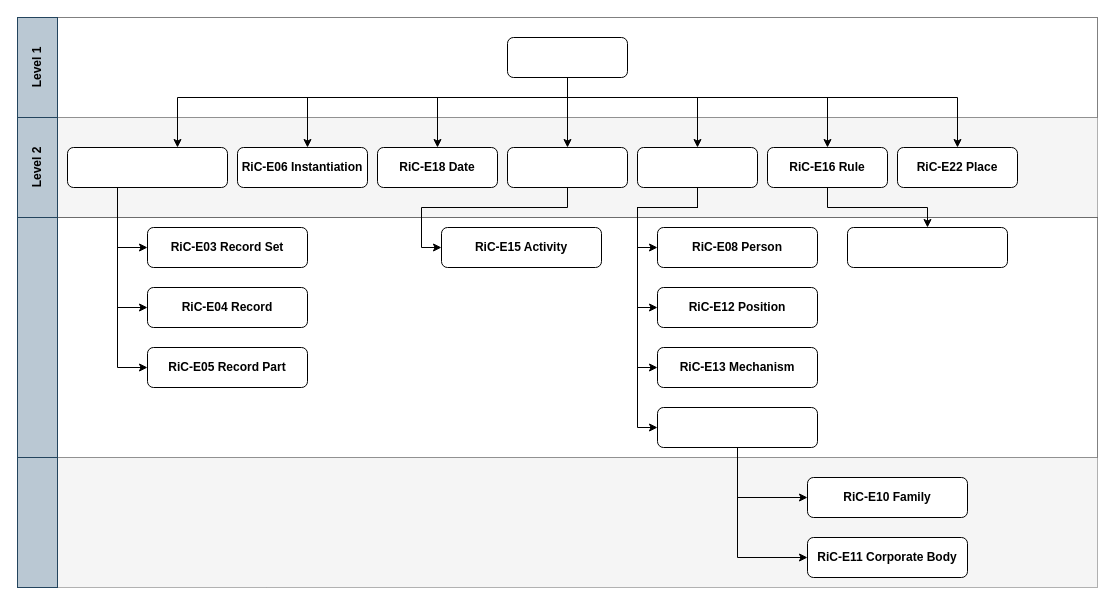
This 1115x605 diagram has some shape labels left out. Here are the shapes that lost their labels. From the top down, the centre of each, then its label:
point 567,57: RiC-E01 Thing
point 147,167: RiC-E02 Record Resource
point 567,167: RiC-E14 Event
point 697,167: RiC-E07 Agent
point 927,247: RiC-E17 Mandate
point 37,337: Level 3
point 737,427: RiC-E09 Group
point 37,522: Level 4
